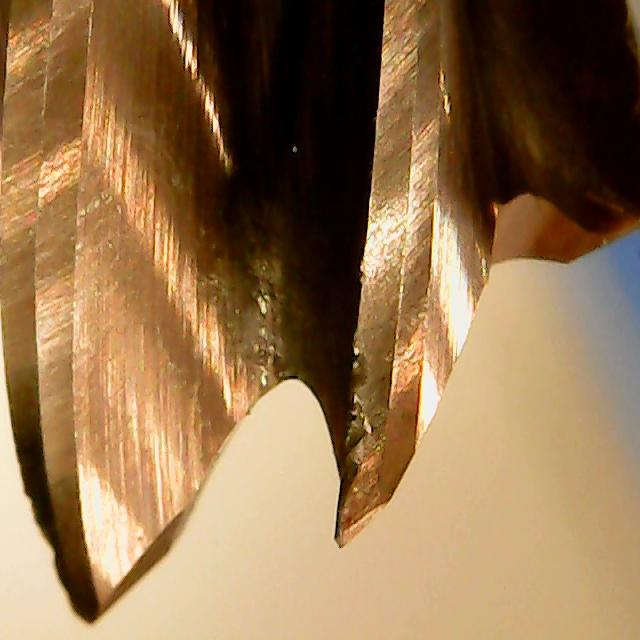Tool-wear-class-1: (306, 293, 472, 556)
